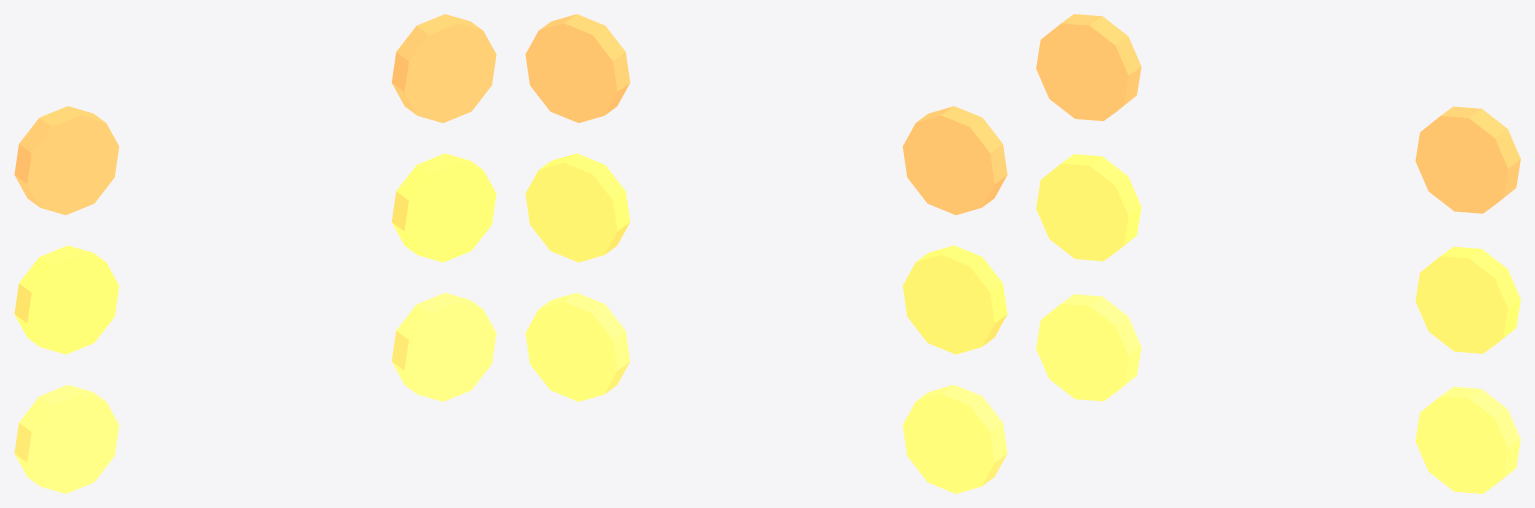
File: TrafficLight_Glow.glb
3 views of the same model, side by side, from view 1: azimuth 30°, elevation 25°; view 2: azimuth 150°, elevation 25°; view 3: azimuth 330°, elevation 25° (orthographic).
Parts seen in each view (by area): view 1: TrafficLight_Glow; view 2: TrafficLight_Glow; view 3: TrafficLight_Glow.
Boxes of the visible parts, left/top/right/bottom form: TrafficLight_Glow: left=14, top=14, right=496, bottom=493; TrafficLight_Glow: left=525, top=14, right=1007, bottom=493; TrafficLight_Glow: left=1036, top=14, right=1520, bottom=493.
Size of the model in its own units: 4.23 by 3.23 by 0.2.
